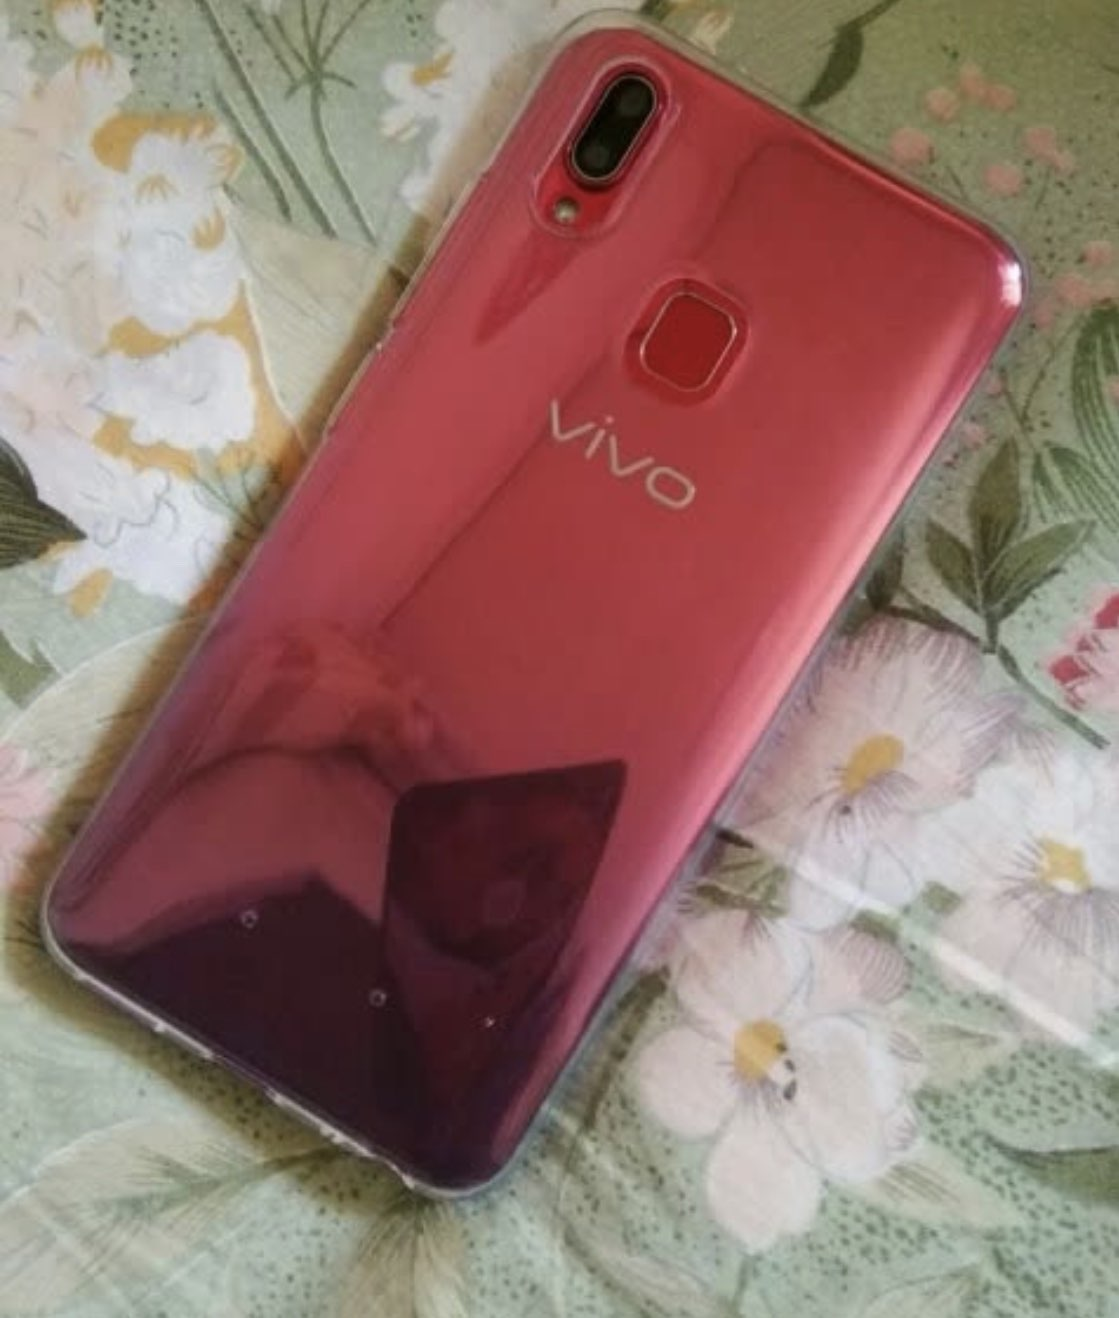mobil: (32, 21, 1026, 1200)
